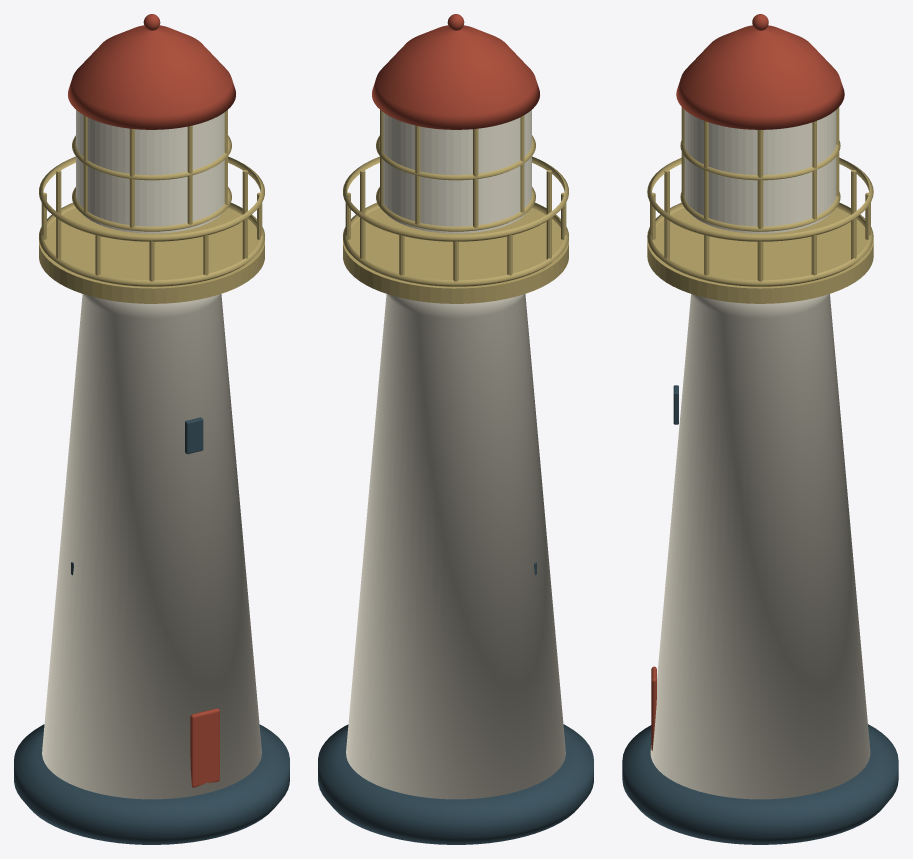
The model's file is lighthouse-lamp.glb.
3 renders of one model, left to right at view 1: azimuth 30°, elevation 25°; view 2: azimuth 150°, elevation 25°; view 3: azimuth 270°, elevation 25°, orthographic.
Parts seen in each view (by area): view 1: lighthouse-lamp; view 2: lighthouse-lamp; view 3: lighthouse-lamp.
Part boxes in pixels (x1=…): lighthouse-lamp: x1=14, y1=14, x2=289, y2=844; lighthouse-lamp: x1=318, y1=14, x2=593, y2=844; lighthouse-lamp: x1=622, y1=14, x2=898, y2=844.
Bounding box in the file's own units: 0.2 × 0.6197 × 0.2.
